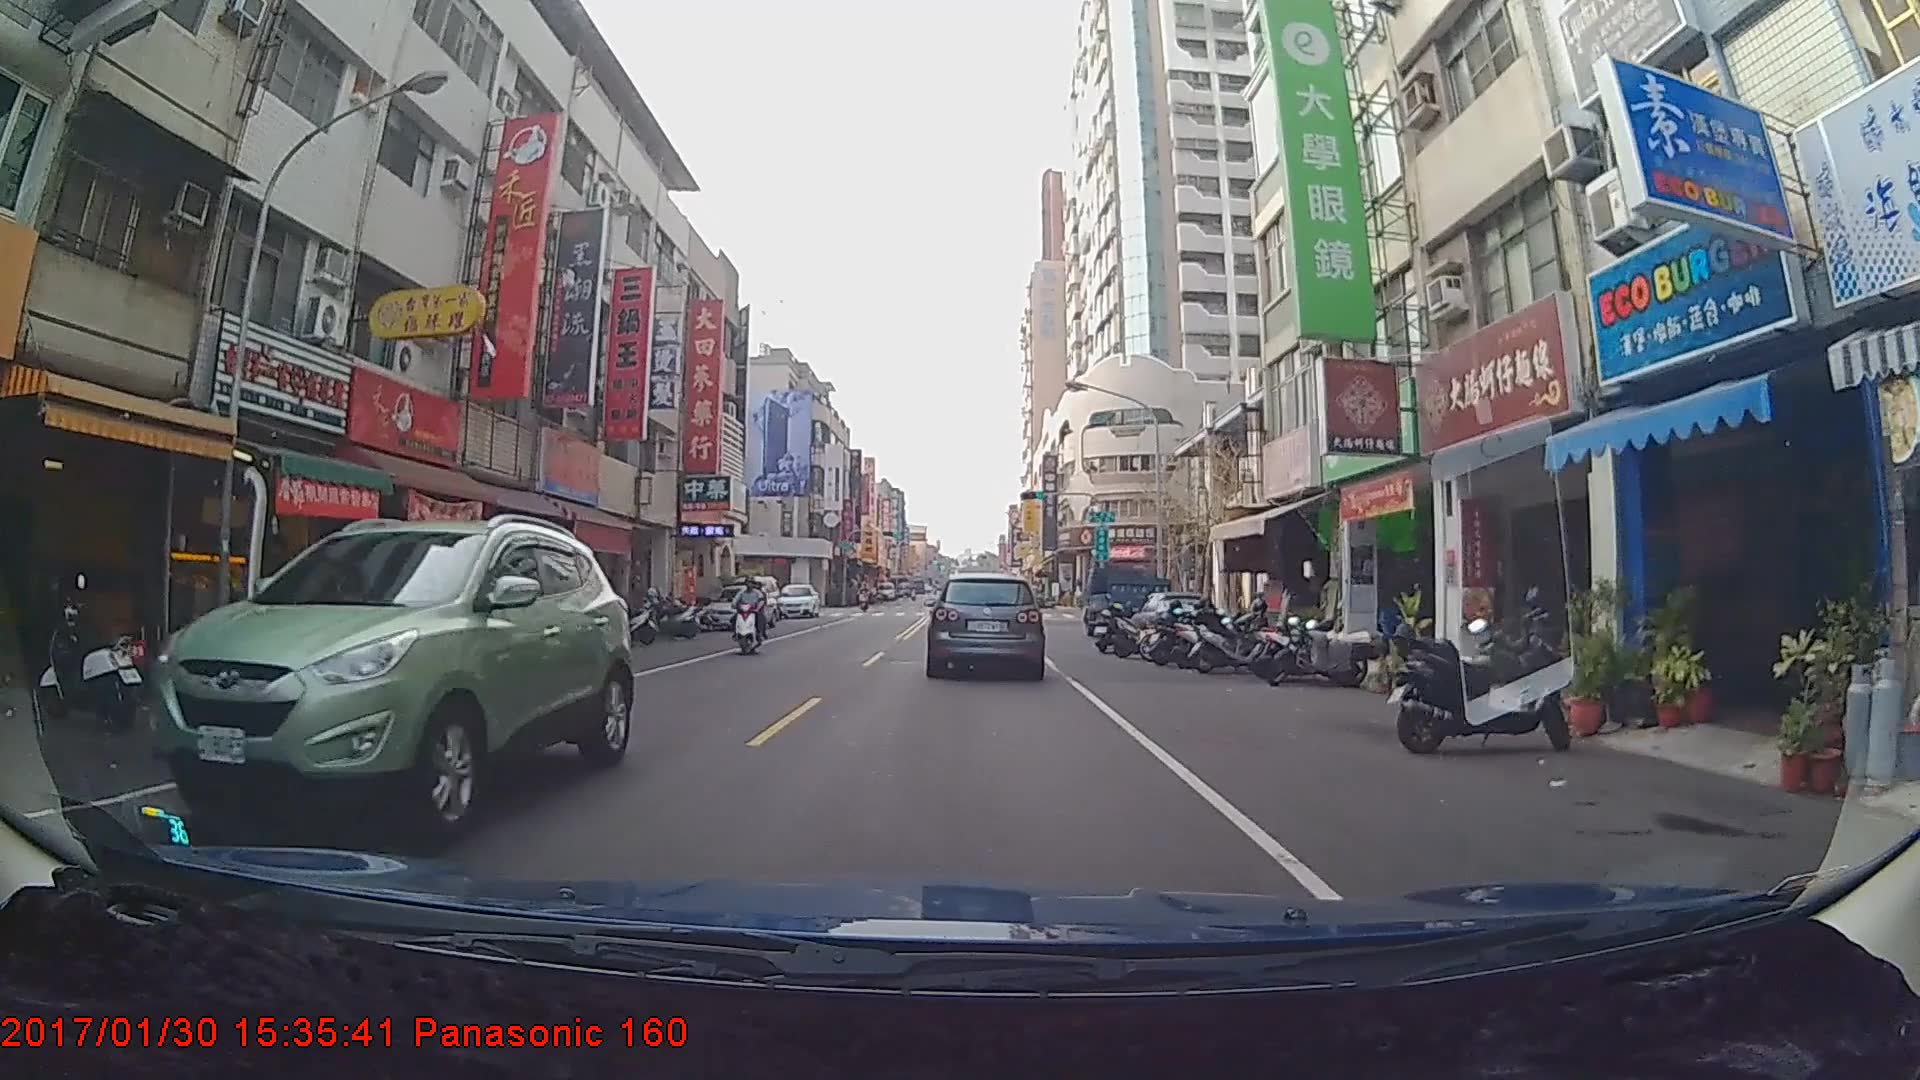rider: (730, 573, 776, 656)
vehicle: (146, 515, 635, 846), (927, 572, 1043, 677), (1081, 563, 1175, 638), (702, 583, 780, 632), (774, 583, 820, 621)
